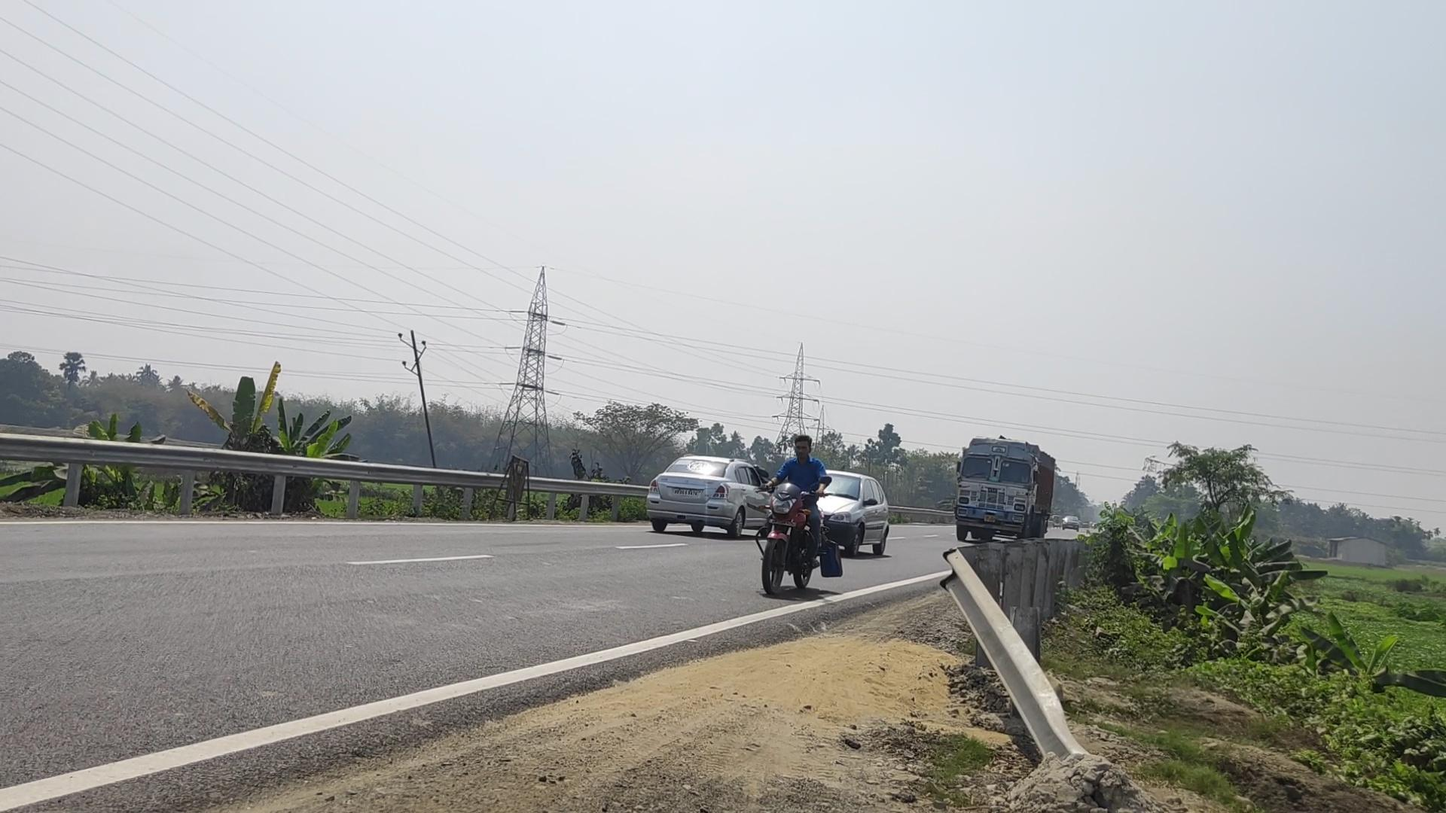bike: (755, 435, 831, 596)
car: (645, 455, 776, 540), (802, 470, 890, 558)
truck: (954, 437, 1055, 548)
